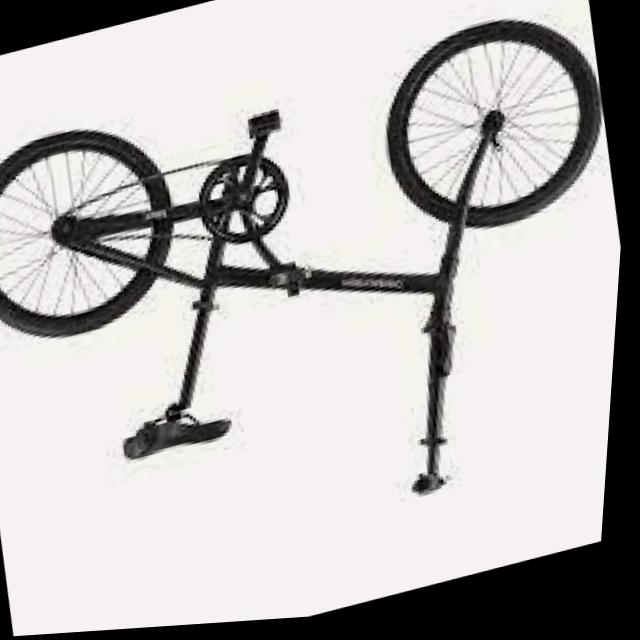folding-bike: (0, 0, 638, 604)
